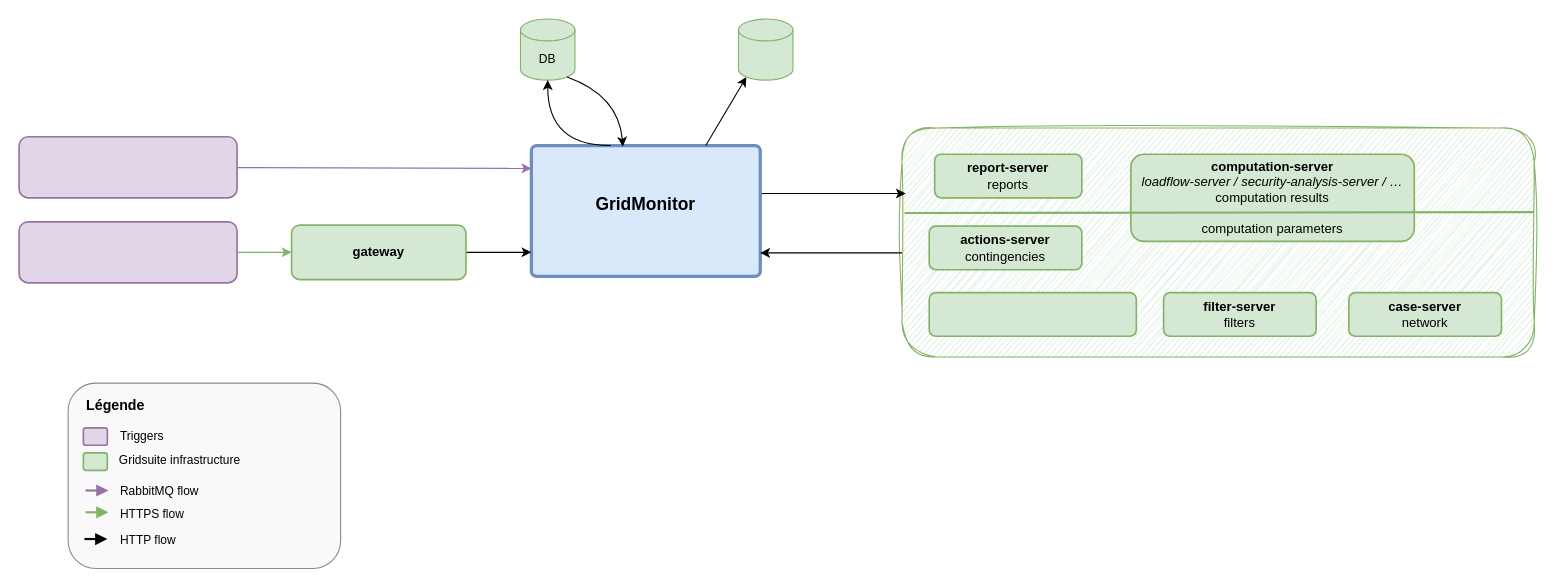
Image size: 1555x588. Some labels were removed from this diagram. Each missing label, with the box of its shape:
Event: (18, 135, 237, 198)
gridmonitor-app: (18, 221, 237, 283)
network-modification-server network modififications: (928, 291, 1137, 337)
S3: (737, 18, 793, 80)
